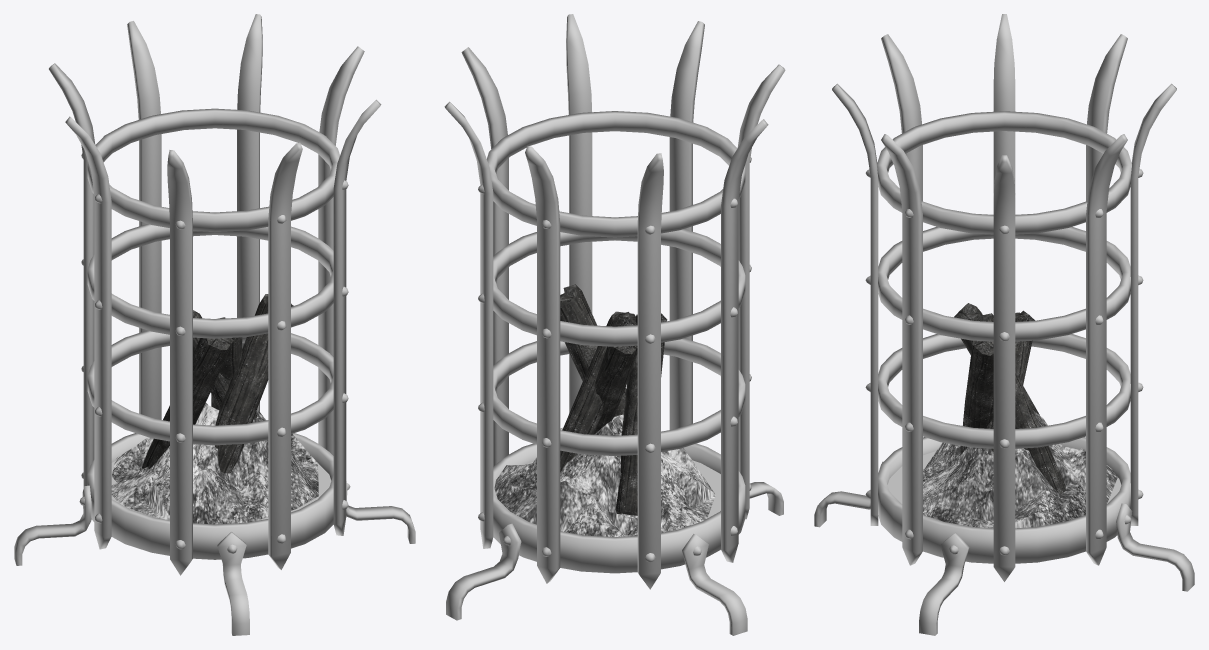
File: SM_Brazier_D.fbx
3 views of the same model, side by side, from view 1: azimuth 30°, elevation 25°; view 2: azimuth 150°, elevation 25°; view 3: azimuth 270°, elevation 25° (orthographic). The views are drawn at different scales.
Parts seen in each view (by area): view 1: SM_Brazier_D_LOD0; view 2: SM_Brazier_D_LOD0; view 3: SM_Brazier_D_LOD0.
Boxes of the visible parts, bbox=[...] form: SM_Brazier_D_LOD0: bbox=[14, 14, 415, 635]; SM_Brazier_D_LOD0: bbox=[444, 14, 785, 635]; SM_Brazier_D_LOD0: bbox=[814, 14, 1194, 635].
Bounding box in the file's own units: 64.37 × 64.37 × 87.97.
2 materials, 1 textured.
